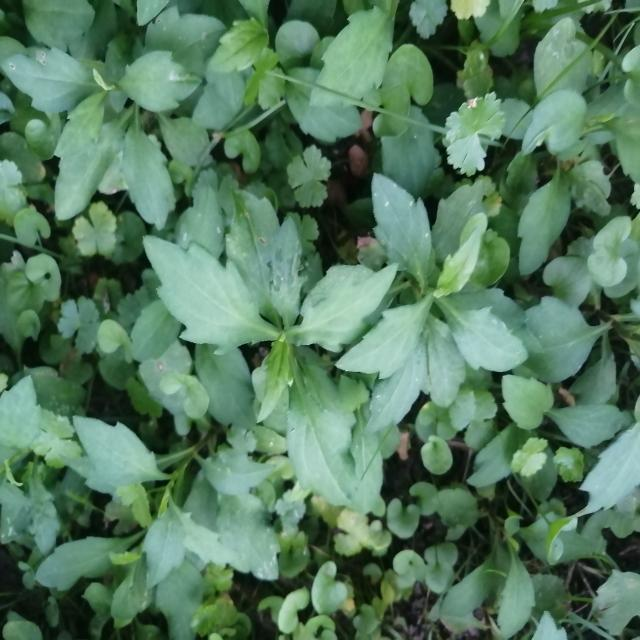Indian aster: (166, 220, 372, 498), (352, 165, 528, 434), (10, 37, 212, 226)
